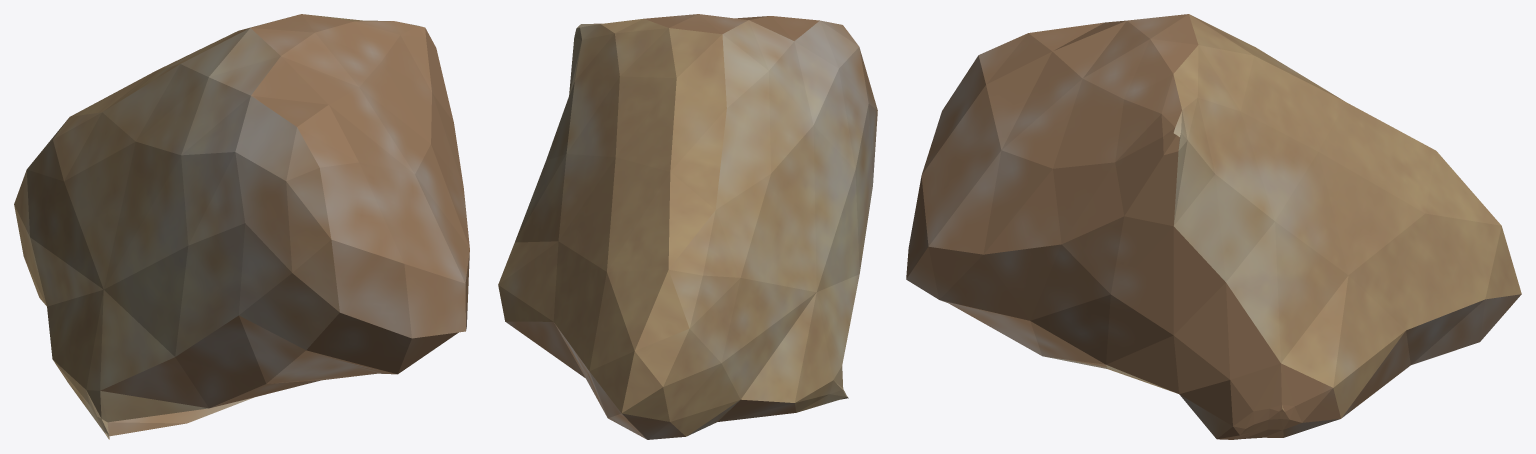
The model's file is PedraLarga2HP.fbx.
The picture shows the model from 3 angles, left to right: view 1: azimuth 30°, elevation 25°; view 2: azimuth 150°, elevation 25°; view 3: azimuth 270°, elevation 25°; orthographic projection. The views are drawn at different scales.
Visible parts, largest first — view 1: PedraLarga2; view 2: PedraLarga2; view 3: PedraLarga2.
Boxes of the visible parts, x1=… form: PedraLarga2: x1=14, y1=14, x2=469, y2=439; PedraLarga2: x1=498, y1=14, x2=877, y2=439; PedraLarga2: x1=906, y1=14, x2=1521, y2=439.
Bounding box in the file's own units: 149 × 156 × 226.
